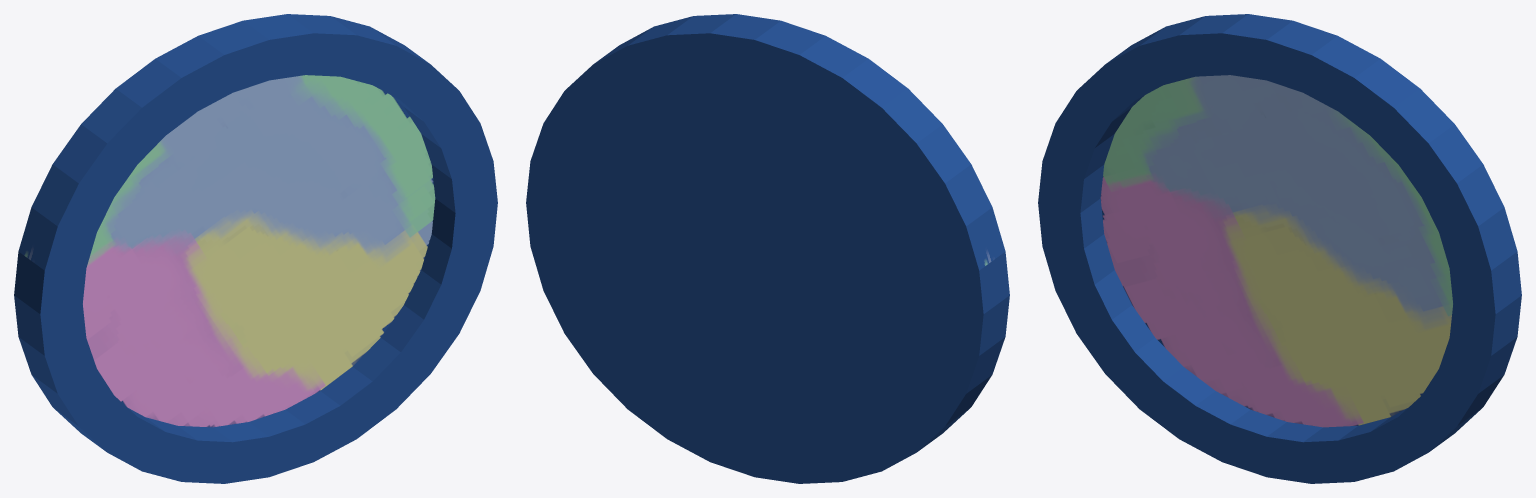
File: Espejo.obj
3 views of the same model, side by side, from view 1: azimuth 30°, elevation 25°; view 2: azimuth 150°, elevation 25°; view 3: azimuth 330°, elevation 25° (orthographic).
Visible parts, largest first — view 1: Cylinder.009_Cylinder.020; view 2: Cylinder.009_Cylinder.020; view 3: Cylinder.009_Cylinder.020.
Part boxes in pixels (x1,y1,x2,y2): Cylinder.009_Cylinder.020: (14,14,497,483); Cylinder.009_Cylinder.020: (526,14,1009,483); Cylinder.009_Cylinder.020: (1038,14,1521,483).
Bounding box in the file's own units: 9.76 × 8.92 × 0.974.
1 material, 1 textured.
